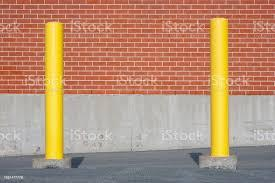Animal: (41, 23, 69, 161), (213, 16, 232, 155)
